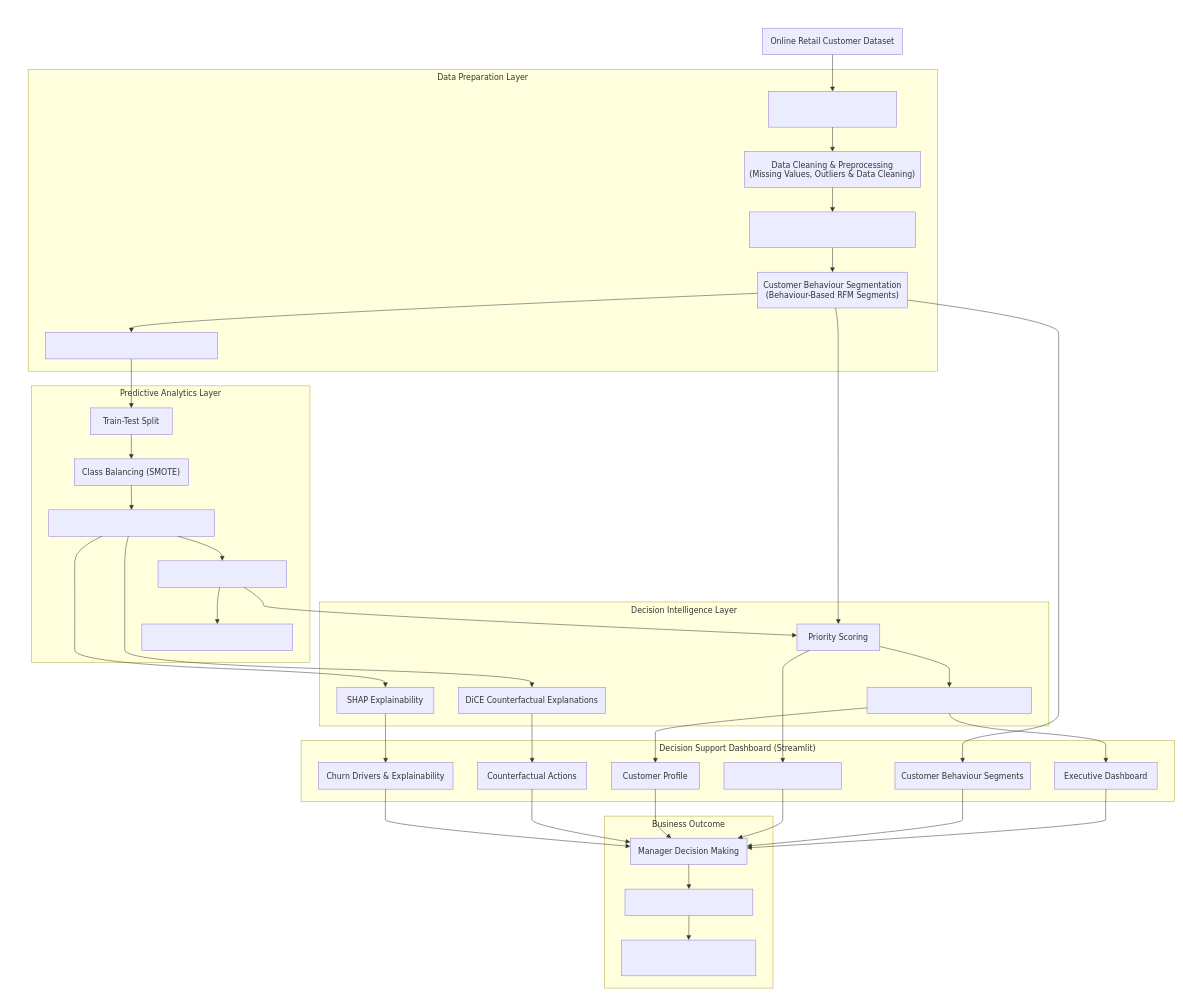
The diagram is 1183 pixels wide and 997 high, and some of its shapes have lost their labels. The centre of each missing label's shape, as x and y in pixels:
"Business Rule Recommendation Engine" belongs at (949,700).
"Churn Probability Prediction" belongs at (222,573).
"Customer Churn Risk Classification" belongs at (217,637).
"Data Exploration (EDA & Data Understanding)" belongs at (832,109).
"Feature Encoding & Data Transformation" belongs at (131,345).
"Improved Customer Retention Reduced Customer Churn" belongs at (688,958).
"Random Forest Churn Prediction Model" belongs at (131,522).
"Retention Priority Centre" belongs at (782,775).
"RFM Feature Engineering (Recency, Frequency, Monetary Scores)" belongs at (832,229).
"Targeted Retention Strategy" belongs at (689,902).
